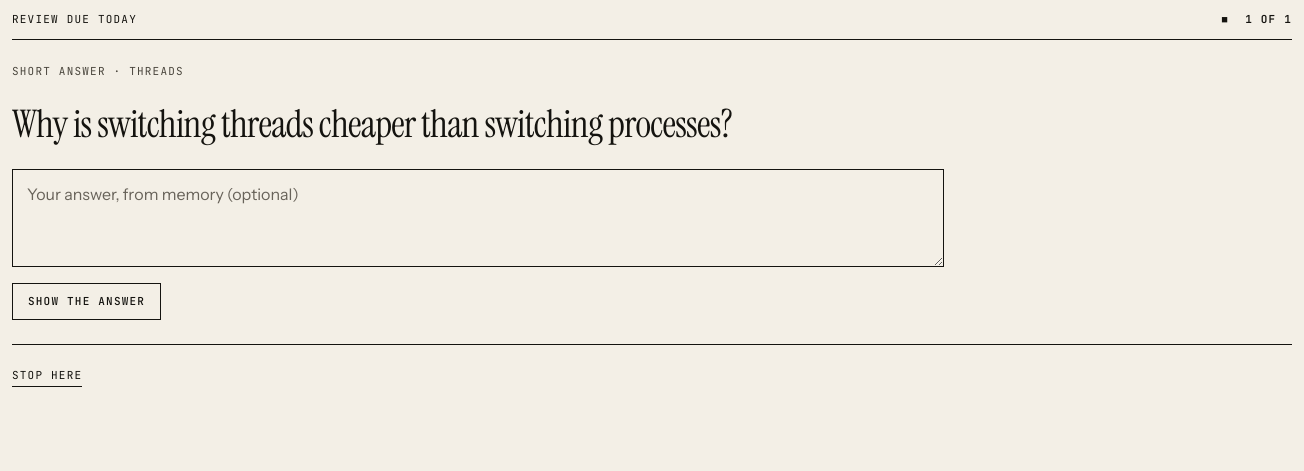
Test: PracticeSession › lets the learner mark a short answer after seeing the stored one
The width and height of the screenshot is (1304, 471).
In the text box labelled "Your answer": (478, 218) [12,169,944,267], type "No page tables change"
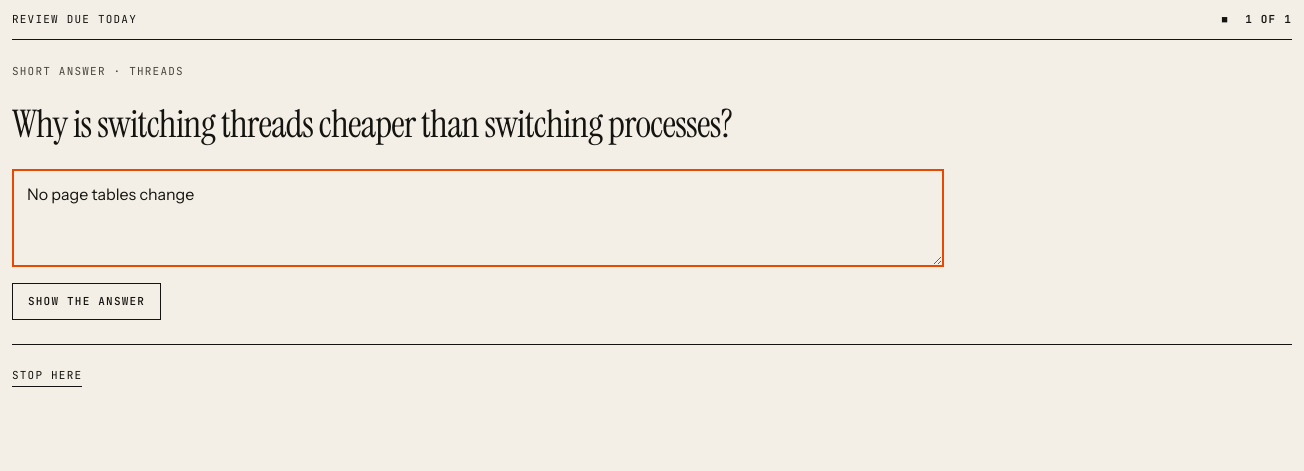
Expected: the text "The address space stays the same, so no page tables change." is not shown
Click the button "Show the answer": (87, 302) [12,283,161,320]
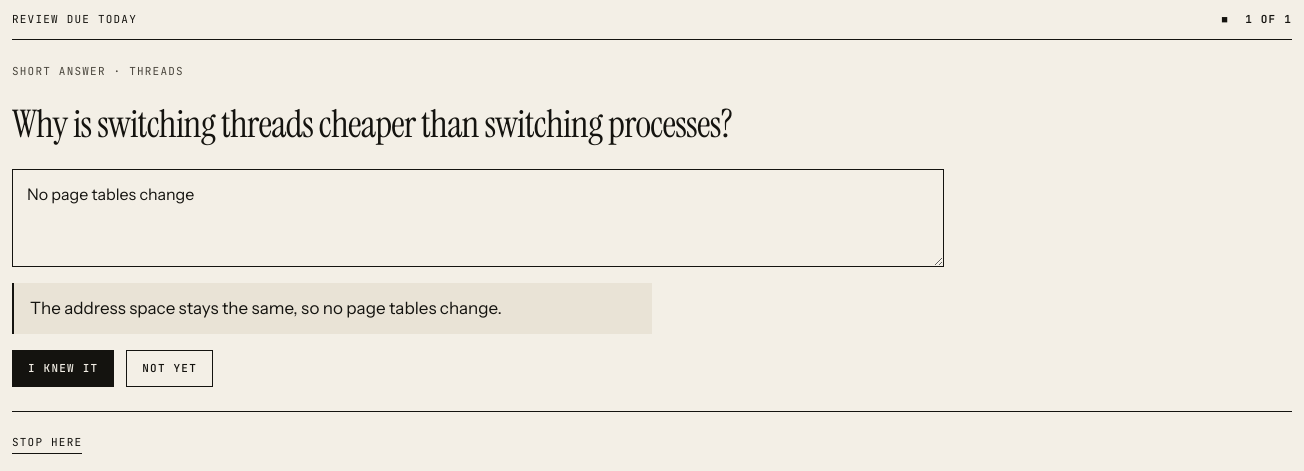
Expected: the text "The address space stays the same, so no page tables change." is shown, [12,283,652,334]
Click the button "I knew it": (63, 369) [12,350,114,387]
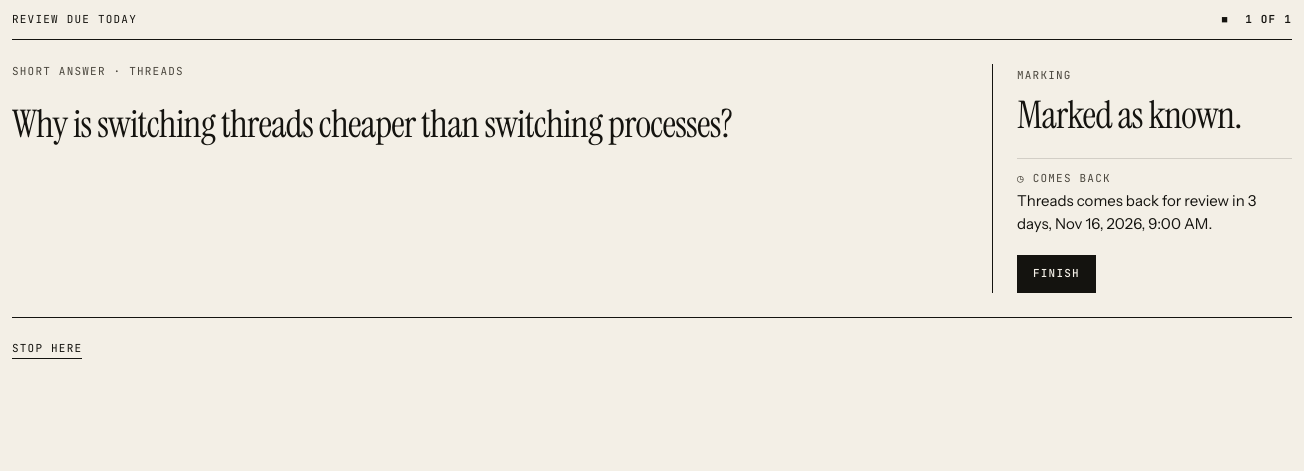
Expected: the message shows "Marked as known.", [1017,90,1242,140]
Expected: the message shows "comes back for review in 3 days", [992,64,1292,293]
